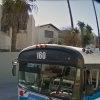Bus: (9, 39, 100, 100)
